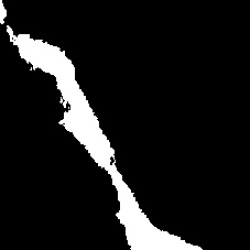crack: (1, 5, 200, 247)
